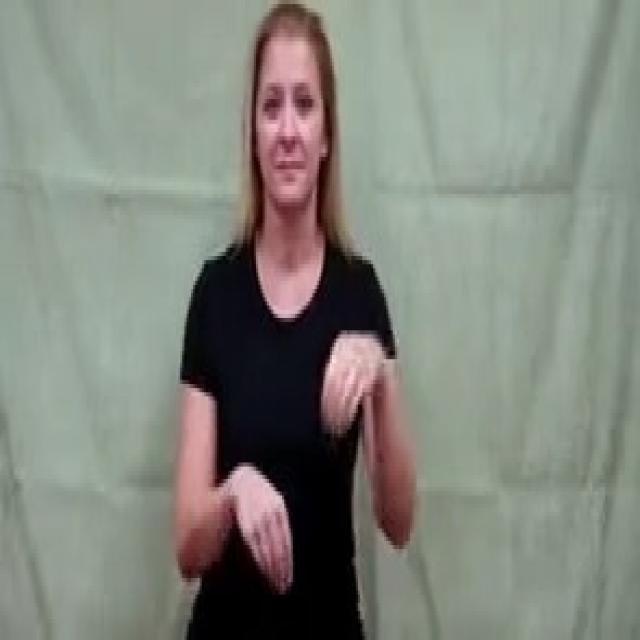ingredients: (230, 453, 304, 593), (321, 320, 387, 436)
